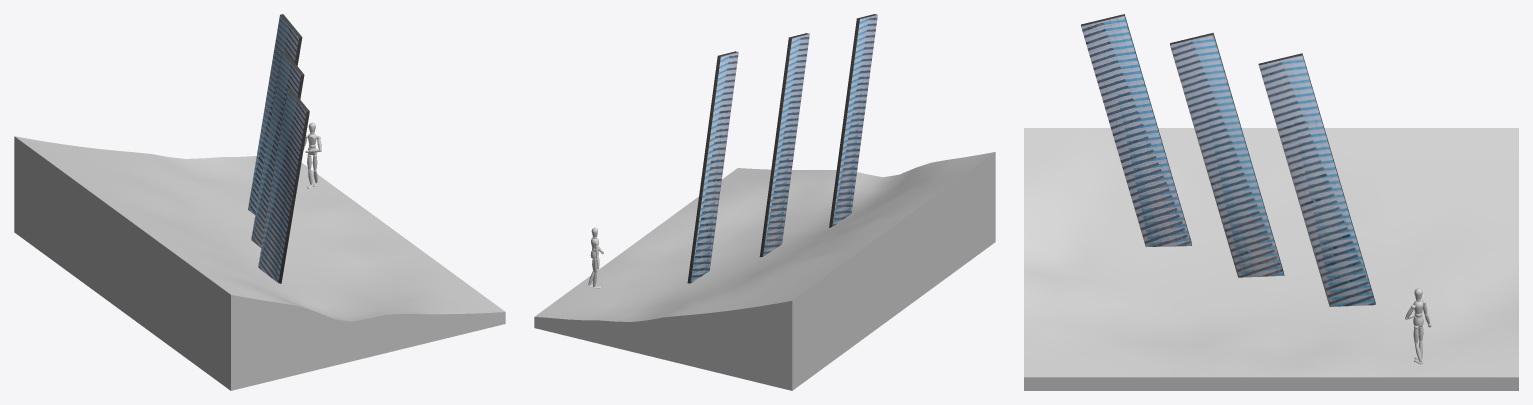
Rendered from preview.glb.
3 views of the same model, side by side, from view 1: azimuth 30°, elevation 25°; view 2: azimuth 150°, elevation 25°; view 3: azimuth 270°, elevation 25° (orthographic). The views are drawn at different scales.
Parts seen in each view (by area): view 1: Material2 (×3); view 2: Material2 (×3); view 3: Material2 (×3).
Boxes of the visible parts, x1,y1,x2,y2 form: Material2 (×3): (14, 14, 505, 390); Material2 (×3): (534, 14, 995, 390); Material2 (×3): (1024, 14, 1518, 390).
Size of the model in its own units: 323 by 275 by 441.
3 materials, 2 textured.
